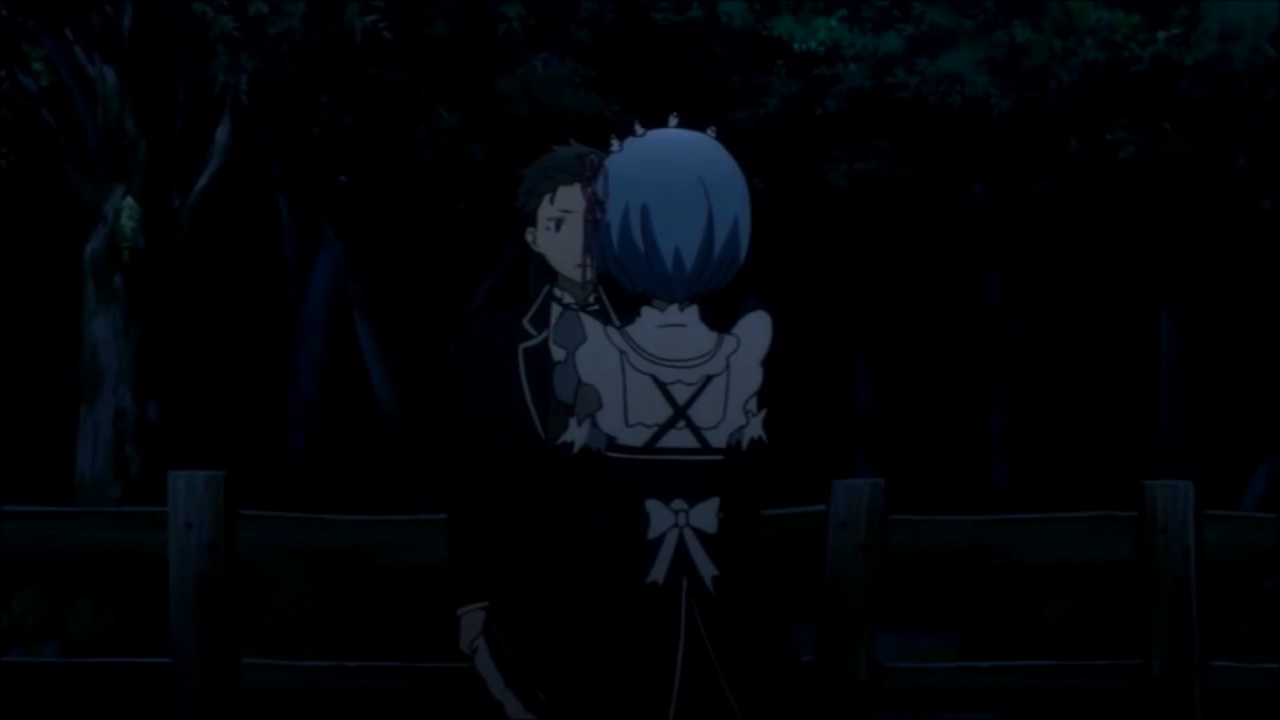REM: (585, 121, 756, 302)
